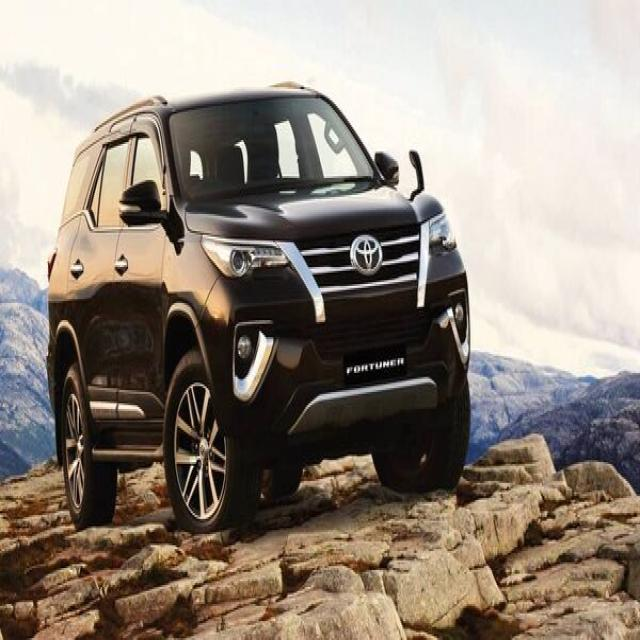light_vehicle: (45, 81, 473, 536)
